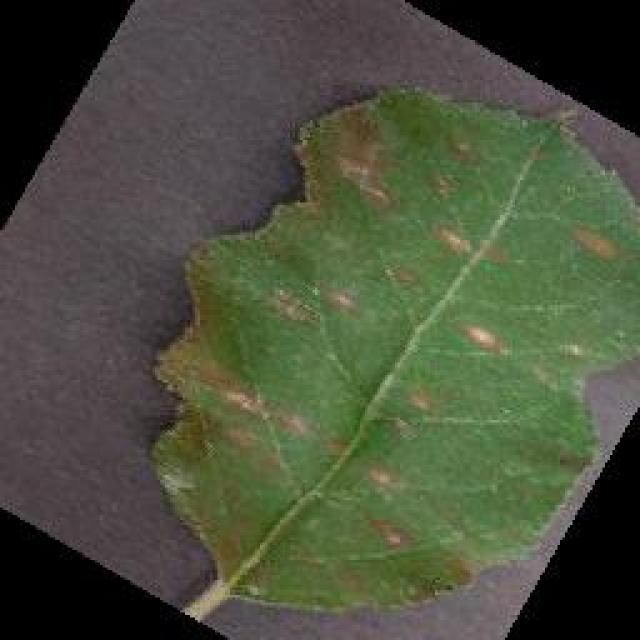apple scab disease: (148, 80, 638, 620)
